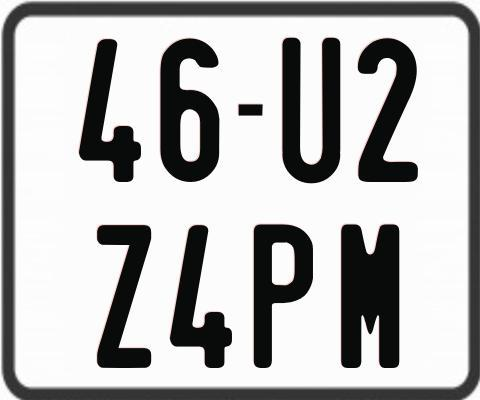2: (356, 36, 420, 186)
4: (167, 224, 235, 367), (78, 37, 140, 180)
6: (158, 37, 217, 186)
M: (341, 224, 404, 374)
P: (254, 224, 315, 372)
U: (280, 38, 341, 183)
Z: (95, 225, 151, 373)
